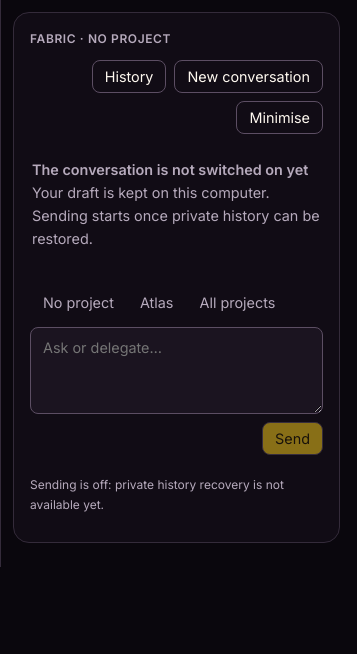
Test case: the conversation with Fabric, every SCN-042 state › unsupported context: "All projects" is refused visibly and not applied
Expected: the text "The conversation is not switched on yet" is shown, [32, 161, 308, 178]
Click the button "All projects" at (237, 303), box [186, 286, 288, 319]
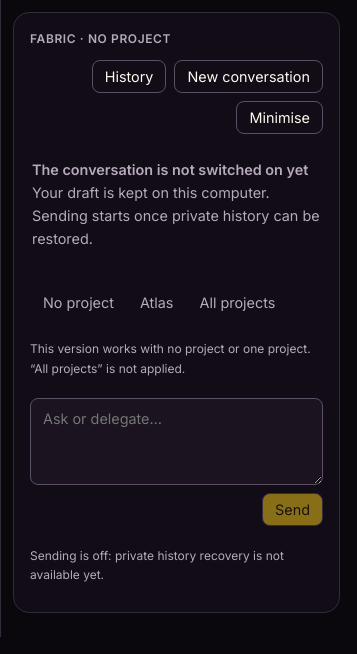
Expected: the 1st message shows "This version works with no project or one project. “All projects” is not applied.", [30, 341, 311, 376]
